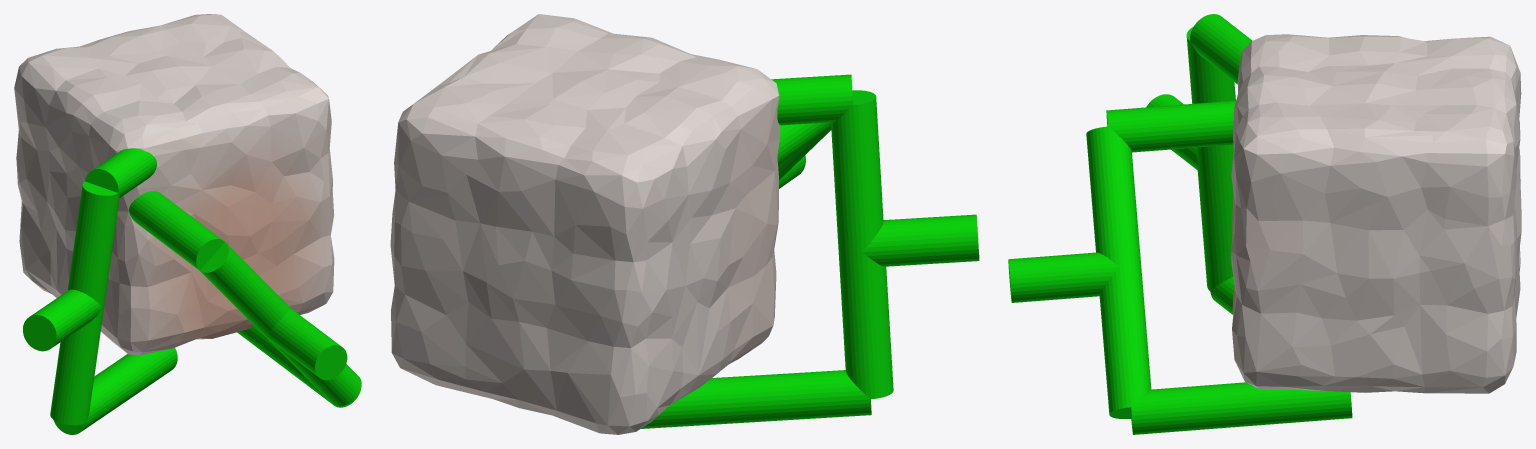
The model's file is round_000_trial_001.obj.
3 views of the same model, side by side, from view 1: azimuth 30°, elevation 25°; view 2: azimuth 150°, elevation 25°; view 3: azimuth 270°, elevation 25° (orthographic). The views are drawn at different scales.
Visible parts, largest first — view 1: geometry_0, geometry_2, geometry_1; view 2: geometry_0, geometry_2, geometry_1; view 3: geometry_0, geometry_1, geometry_2.
Part boxes in pixels (x1,y1,x2,y2): geometry_0: (14,14,334,355); geometry_2: (23,148,177,434); geometry_1: (129,191,361,407); geometry_0: (390,14,779,434); geometry_2: (641,74,979,428); geometry_1: (777,122,831,188); geometry_0: (1231,34,1521,393); geometry_1: (1008,100,1352,434); geometry_2: (1146,14,1252,314).
Size of the model in its own units: 0.1045 by 0.0824 by 0.1167.
